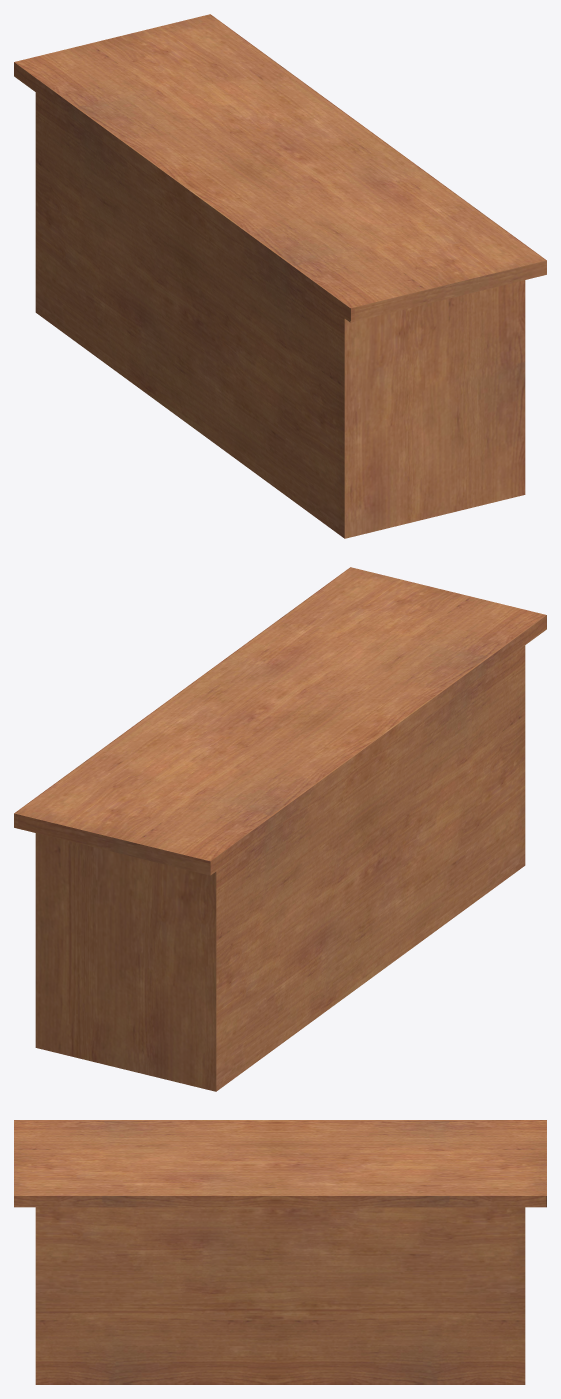
The model's file is LadaSzatnia.fbx.
3 views of the same model, one above another, from view 1: azimuth 30°, elevation 25°; view 2: azimuth 150°, elevation 25°; view 3: azimuth 270°, elevation 25° (orthographic). The views are drawn at different scales.
Parts seen in each view (by area): view 1: Cube; view 2: Cube; view 3: Cube.
Part boxes in pixels (x1,y1,x2,y2): Cube: (14, 14, 546, 538); Cube: (14, 567, 546, 1091); Cube: (14, 1120, 546, 1384).
Bounding box in the file's own units: 1.79 × 2.11 × 5.31.
Materials: 1 (1 with a texture image).
